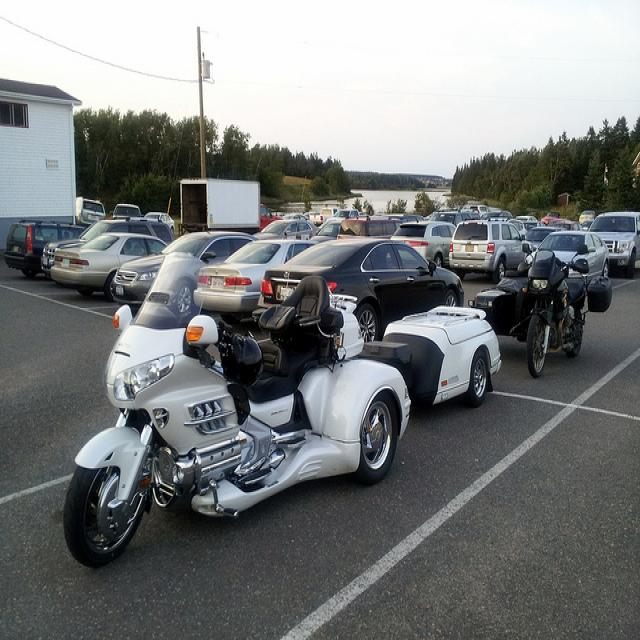motor: (67, 252, 409, 496), (359, 303, 511, 403), (522, 243, 592, 375), (466, 274, 527, 343)
